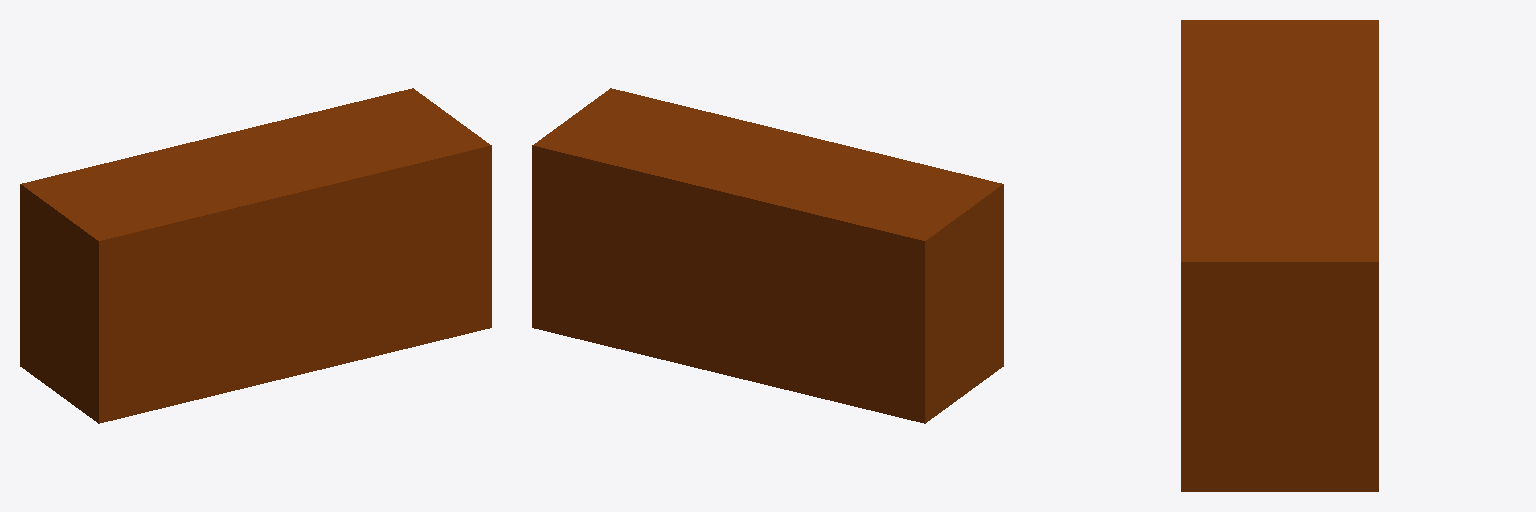
The robot description file, URDF, robot "handle_head":
<?xml version="1.0"?>
<robot name="handle_head">

  <link name="handle_head">
    <!-- Handle -->
    <visual>
      <origin xyz="0 0 0" rpy="0 0 0"/>
      <geometry>
        <box size="0.13978671144627314 0.04829235949209526 0.06208336361388633"/>
      </geometry>
      <material name="brown">
        <color rgba="0.55 0.27 0.07 1.0"/>
      </material>
    </visual>
    <collision>
      <origin xyz="0 0 0" rpy="0 0 0"/>
      <geometry>
        <box size="0.13978671144627314 0.04829235949209526 0.06208336361388633"/>
      </geometry>
    </collision>

    <inertial>
      <origin xyz="0 0 0" rpy="0 0 0"/>
      <mass value="0.15605460680136193"/>
      <inertia ixx="8.045260036134879e-05" iyy="0.00030423715255188595" izz="0.0002844417290353963" ixy="0" ixz="0" iyz="0"/>
    </inertial>
  </link>

</robot>

--- Render facts (derived) ---
Views: 3 orthographic renders of the robot side by side, from view 1: azimuth 30°, elevation 25°; view 2: azimuth 150°, elevation 25°; view 3: azimuth 270°, elevation 25°.
Robot: handle_head — 1 links, 0 joints (none); root link handle_head; default pose: every joint at zero.
Links seen in each view (by area): view 1: handle_head; view 2: handle_head; view 3: handle_head.
Boxes of the visible links, <box> form: handle_head: <box>20,88,491,423</box>; handle_head: <box>532,88,1003,423</box>; handle_head: <box>1181,20,1378,491</box>.
Size in the robot's own frame: 0.1398 by 0.0483 by 0.0621 metres.
Geometry: primitives only (box / cylinder / sphere), no mesh files.
